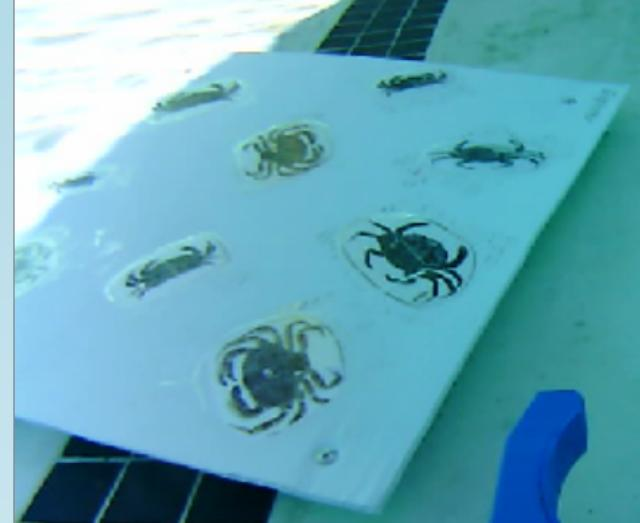crab: (197, 299, 354, 441), (335, 206, 478, 309), (416, 127, 552, 174), (235, 121, 333, 181), (125, 241, 215, 297), (16, 230, 66, 297), (153, 81, 240, 112), (377, 71, 447, 96), (51, 172, 97, 191)
